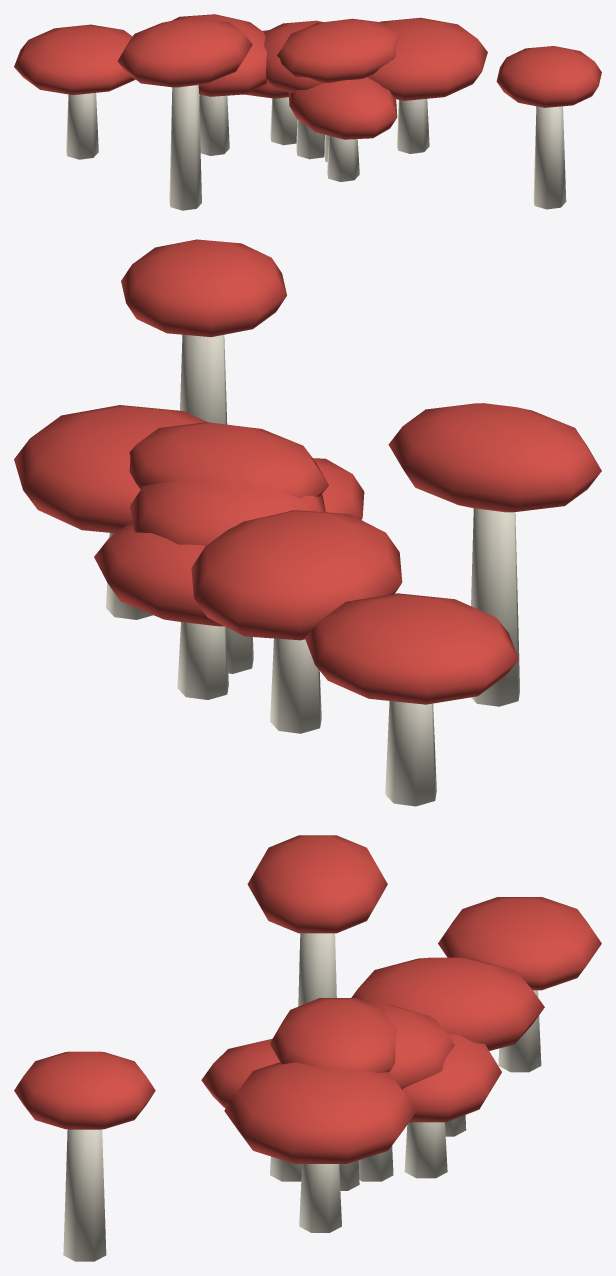
Rendered from mushroom_patch_b.glb.
3 views of the same model, one above another, from view 1: azimuth 30°, elevation 25°; view 2: azimuth 150°, elevation 25°; view 3: azimuth 270°, elevation 25° (orthographic). The views are drawn at different scales.
Visible parts, largest first — view 1: mushroom_cap_8, mushroom_cap_5, mushroom_cap_1, mushroom_cap_4, mushroom_cap_7, mushroom_cap_2, mushroom_stem_8, mushroom_stem_2, mushroom_cap_6, mushroom_stem_1, mushroom_cap_0, mushroom_stem_6 (+5 smaller); view 2: mushroom_cap_6, mushroom_cap_1, mushroom_cap_8, mushroom_cap_5, mushroom_cap_2, mushroom_cap_4, mushroom_cap_0, mushroom_cap_3, mushroom_stem_8, mushroom_stem_1, mushroom_stem_6, mushroom_stem_2 (+3 smaller); view 3: mushroom_cap_5, mushroom_cap_6, mushroom_cap_8, mushroom_cap_1, mushroom_cap_2, mushroom_cap_4, mushroom_stem_2, mushroom_cap_3, mushroom_cap_0, mushroom_stem_5, mushroom_cap_7, mushroom_stem_8 (+4 smaller).
Boxes of the visible parts, left/top/right/bottom form: mushroom_cap_8: left=117, top=18, right=252, bottom=87; mushroom_cap_5: left=367, top=17, right=487, bottom=100; mushroom_cap_1: left=14, top=24, right=135, bottom=94; mushroom_cap_4: left=277, top=18, right=399, bottom=82; mushroom_cap_7: left=288, top=77, right=397, bottom=139; mushroom_cap_2: left=496, top=46, right=601, bottom=107; mushroom_stem_8: left=169, top=85, right=201, bottom=210; mushroom_stem_2: left=533, top=106, right=566, bottom=209; mushroom_cap_6: left=172, top=14, right=266, bottom=96; mushroom_stem_1: left=66, top=93, right=98, bottom=159; mushroom_cap_0: left=264, top=20, right=325, bottom=92; mushroom_stem_6: left=199, top=94, right=229, bottom=155; mushroom_cap_6: left=191, top=510, right=402, bottom=640; mushroom_cap_1: left=305, top=593, right=518, bottom=704; mushroom_cap_8: left=388, top=403, right=601, bottom=512; mushroom_cap_5: left=14, top=405, right=207, bottom=533; mushroom_cap_2: left=121, top=239, right=286, bottom=336; mushroom_cap_4: left=129, top=422, right=328, bottom=498; mushroom_cap_0: left=130, top=480, right=325, bottom=545; mushroom_cap_3: left=94, top=521, right=223, bottom=626; mushroom_stem_8: left=471, top=508, right=519, bottom=706; mushroom_stem_1: left=385, top=701, right=436, bottom=806; mushroom_stem_6: left=270, top=638, right=321, bottom=733; mushroom_stem_2: left=180, top=334, right=227, bottom=424; mushroom_cap_5: left=224, top=1062, right=416, bottom=1163; mushroom_cap_6: left=351, top=957, right=544, bottom=1050; mushroom_cap_8: left=247, top=835, right=387, bottom=933; mushroom_cap_1: left=438, top=897, right=601, bottom=990; mushroom_cap_2: left=14, top=1051, right=155, bottom=1129; mushroom_cap_4: left=270, top=998, right=397, bottom=1072; mushroom_stem_2: left=63, top=1129, right=106, bottom=1261; mushroom_cap_3: left=402, top=1033, right=501, bottom=1122; mushroom_cap_0: left=373, top=1004, right=454, bottom=1089; mushroom_stem_5: left=299, top=1164, right=341, bottom=1232; mushroom_cap_7: left=201, top=1038, right=279, bottom=1108; mushroom_stem_8: left=298, top=933, right=336, bottom=1006.
Size of the model in its own units: 0.4784 by 0.2006 by 0.4676.
